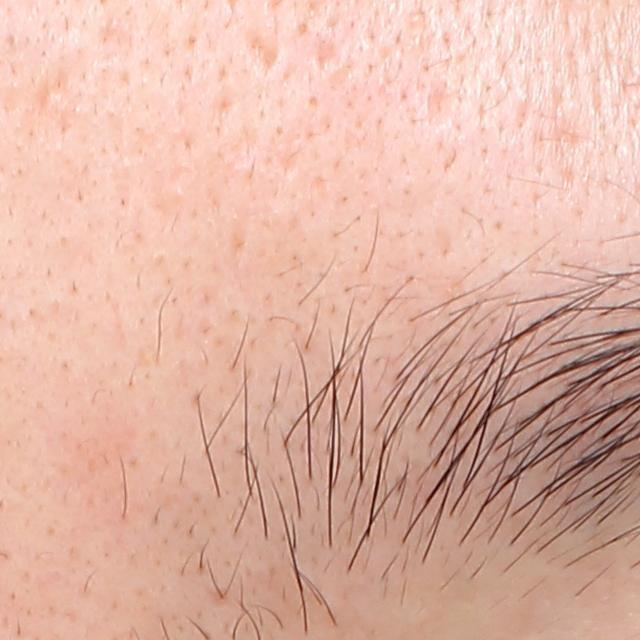atrophic_scar: (243, 32, 283, 72)
comedo: (40, 90, 68, 112)
